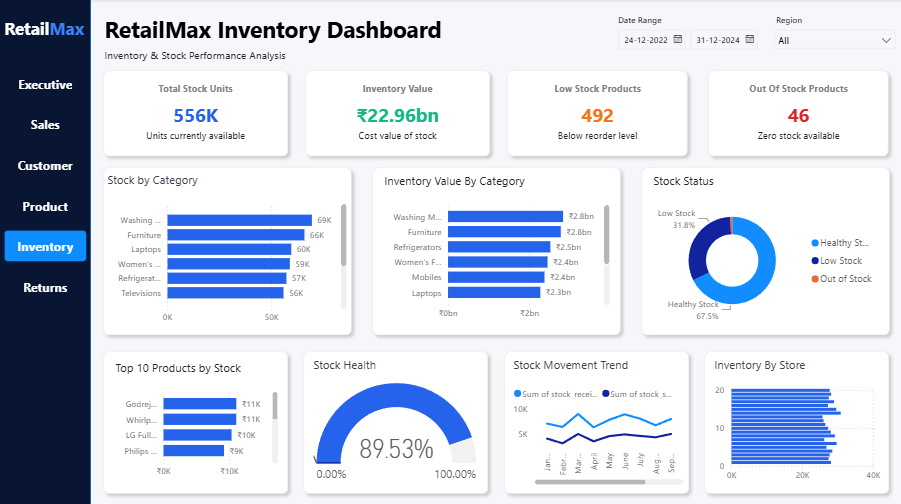

Layout of this report page (visuals, bound fields, positions):
{"tool":"powerbi","page":{"name":"Inventory Dashboard","canvas":[1280,720],"ordinal":4},"visuals":[{"type":"shape","box":[0,0,130,720],"z":0,"group":"g8"},{"type":"shape","box":[139,92,280,140],"z":0,"group":"g1"},{"type":"shape","box":[425,92,280,140],"z":0,"group":"g2"},{"type":"shape","box":[711,92,273.4,140],"z":0,"group":"g3"},{"type":"shape","box":[997,92,273.4,140],"z":0,"group":"g4"},{"type":"textbox","box":[160,176,144,64],"z":0},{"type":"shape","box":[139,230,370,256],"z":0,"group":"g5"},{"type":"shape","box":[520.5,230,370,256],"z":0,"group":"g6"},{"type":"shape","box":[902,230,370,256],"z":0,"group":"g7"},{"type":"cardVisual","title":"sales","fields":{"Data":["Measure.Total Stock Units"]},"box":[159,127,240,70],"z":1000,"group":"g1"},{"type":"cardVisual","title":"sales","fields":{"Data":["Measure.Inventory Value1"]},"box":[445,127,240,70],"z":1000,"group":"g2"},{"type":"cardVisual","title":"sales","fields":{"Data":["Measure.Low Stock Products"]},"box":[730.5,127,234.4,70],"z":1000,"group":"g3"},{"type":"cardVisual","title":"sales","fields":{"Data":["Measure.Out of Stock Products"]},"box":[1016.5,127,234.4,70],"z":1000,"group":"g4"},{"type":"clusteredBarChart","title":"Stock by Category","fields":{"Y":["Measure.Total Stock Units"],"Category":["dim_category.category_name"]},"box":[149.6,246,348.9,224],"z":1000,"group":"g5"},{"type":"shape","box":[423,491,280,220],"z":1000},{"type":"textbox","box":[159,112.8,240,35],"z":2000,"group":"g1"},{"type":"textbox","box":[445,112.8,240,35],"z":2000,"group":"g2"},{"type":"textbox","box":[730.5,112.8,234.4,35],"z":2000,"group":"g3"},{"type":"textbox","box":[1016.5,112.8,234.4,35],"z":2000,"group":"g4"},{"type":"shape","box":[707,491,280,220],"z":2000},{"type":"textbox","box":[159,179.5,240,35],"z":3000,"group":"g1"},{"type":"textbox","box":[445,179.5,240,35],"z":3000,"group":"g2"},{"type":"textbox","box":[730.5,179.5,234.4,35],"z":3000,"group":"g3"},{"type":"textbox","box":[1016.5,179.5,234.4,35],"z":3000,"group":"g4"},{"type":"shape","box":[991,491,280,220],"z":3000},{"type":"textbox","box":[144,16,544,64],"z":4000},{"type":"gauge","title":"Stock Health","fields":{"Y":["Measure.Stock Health %"]},"box":[440.5,507.9,245,186.2],"z":5000},{"type":"lineChart","title":"Stock Movement Trend","fields":{"Y":["Sum(fact_inventory.stock_received)","Sum(fact_inventory.stock_sold)"],"Category":["dim_date.month_name"]},"box":[724.9,507.9,250.9,186.2],"z":6000},{"type":"barChart","title":"Inventory By Store","fields":{"Y":["Measure.Total Stock Units"],"Category":["dim_store.store_id"]},"box":[1008.5,507.9,245,186.2],"z":7000},{"type":"textbox","box":[144,64,288,80],"z":8000},{"type":"slicer","fields":{"Values":["dim_date.full_date"]},"box":[864,15,224,96],"z":9000},{"type":"slicer","fields":{"Values":["dim_region.region_name"]},"box":[1088,15,192,80],"z":10000},{"type":"group","id":"g1","title":"Group 2","box":[139,92,280,140],"z":11000},{"type":"group","id":"g2","title":"Group 2","box":[425,92,280,140],"z":12000},{"type":"group","id":"g3","title":"Group 2","box":[711,92,280,144],"z":13000},{"type":"group","id":"g4","title":"Group 2","box":[997,92,280,144],"z":14000},{"type":"group","id":"g5","title":"Group 1","box":[139,230,370,256],"z":15000},{"type":"group","id":"g6","title":"Group 3","box":[520.5,230,370,256],"z":16000},{"type":"group","id":"g7","title":"Group 4","box":[902,230,370,256],"z":17000},{"type":"group","id":"g8","title":"Group 2","box":[0,0,130,720],"z":18000},{"type":"actionButton","box":[5,96,120,48],"z":18000,"group":"g8"},{"type":"textbox","box":[0,20,128,48],"z":19000,"group":"g8"},{"type":"clusteredBarChart","title":"Inventory Value By Category","fields":{"Category":["dim_category.category_name"],"Y":["Measure.Inventory Value"]},"box":[542,247,329,216],"z":19000},{"type":"actionButton","box":[5,153.6,120,48],"z":20000,"group":"g8"},{"type":"donutChart","title":"Stock Status","fields":{"Category":["fact_inventory.Stock Status"],"Y":["Measure.Inventory Count"]},"box":[923,247,329,216],"z":20000},{"type":"actionButton","box":[5,211.2,120,48],"z":21000,"group":"g8"},{"type":"shape","box":[139,491,280,220],"z":21000},{"type":"actionButton","box":[5,268.8,120,48],"z":22000,"group":"g8"},{"type":"barChart","title":"Top 10 Products by Stock","fields":{"Y":["Measure.Test Stock Units"],"Category":["dim_product.product_name"]},"box":[160,512,240,176],"z":22000},{"type":"actionButton","box":[5,326.4,120,48],"z":23000,"group":"g8"},{"type":"actionButton","box":[5,384,120,48],"z":24000,"group":"g8"}]}

Visuals, with their boxes on the page's 1280x720 design canvas (x1, y1, x2, y2). These are canvas units, not pixel positions in the 901x504 screenshot, which may show the page scaled, cropped or inside an application window:
shape: l=0, t=0, r=130, b=720
shape: l=139, t=92, r=419, b=232
shape: l=425, t=92, r=705, b=232
shape: l=711, t=92, r=984, b=232
shape: l=997, t=92, r=1270, b=232
textbox: l=160, t=176, r=304, b=240
shape: l=139, t=230, r=509, b=486
shape: l=520, t=230, r=890, b=486
shape: l=902, t=230, r=1272, b=486
"sales" cardVisual: l=159, t=127, r=399, b=197
"sales" cardVisual: l=445, t=127, r=685, b=197
"sales" cardVisual: l=730, t=127, r=965, b=197
"sales" cardVisual: l=1016, t=127, r=1251, b=197
"Stock by Category" clusteredBarChart: l=150, t=246, r=498, b=470
shape: l=423, t=491, r=703, b=711
textbox: l=159, t=113, r=399, b=148
textbox: l=445, t=113, r=685, b=148
textbox: l=730, t=113, r=965, b=148
textbox: l=1016, t=113, r=1251, b=148
shape: l=707, t=491, r=987, b=711
textbox: l=159, t=180, r=399, b=214
textbox: l=445, t=180, r=685, b=214
textbox: l=730, t=180, r=965, b=214
textbox: l=1016, t=180, r=1251, b=214
shape: l=991, t=491, r=1271, b=711
textbox: l=144, t=16, r=688, b=80
"Stock Health" gauge: l=440, t=508, r=686, b=694
"Stock Movement Trend" lineChart: l=725, t=508, r=976, b=694
"Inventory By Store" barChart: l=1008, t=508, r=1254, b=694
textbox: l=144, t=64, r=432, b=144
slicer - dim_date.full_date: l=864, t=15, r=1088, b=111
slicer - dim_region.region_name: l=1088, t=15, r=1280, b=95
"Group 2" group: l=139, t=92, r=419, b=232
"Group 2" group: l=425, t=92, r=705, b=232
"Group 2" group: l=711, t=92, r=991, b=236
"Group 2" group: l=997, t=92, r=1277, b=236
"Group 1" group: l=139, t=230, r=509, b=486
"Group 3" group: l=520, t=230, r=890, b=486
"Group 4" group: l=902, t=230, r=1272, b=486
"Group 2" group: l=0, t=0, r=130, b=720
actionButton: l=5, t=96, r=125, b=144
textbox: l=0, t=20, r=128, b=68
"Inventory Value By Category" clusteredBarChart: l=542, t=247, r=871, b=463
actionButton: l=5, t=154, r=125, b=202
"Stock Status" donutChart: l=923, t=247, r=1252, b=463
actionButton: l=5, t=211, r=125, b=259
shape: l=139, t=491, r=419, b=711
actionButton: l=5, t=269, r=125, b=317
"Top 10 Products by Stock" barChart: l=160, t=512, r=400, b=688
actionButton: l=5, t=326, r=125, b=374
actionButton: l=5, t=384, r=125, b=432
